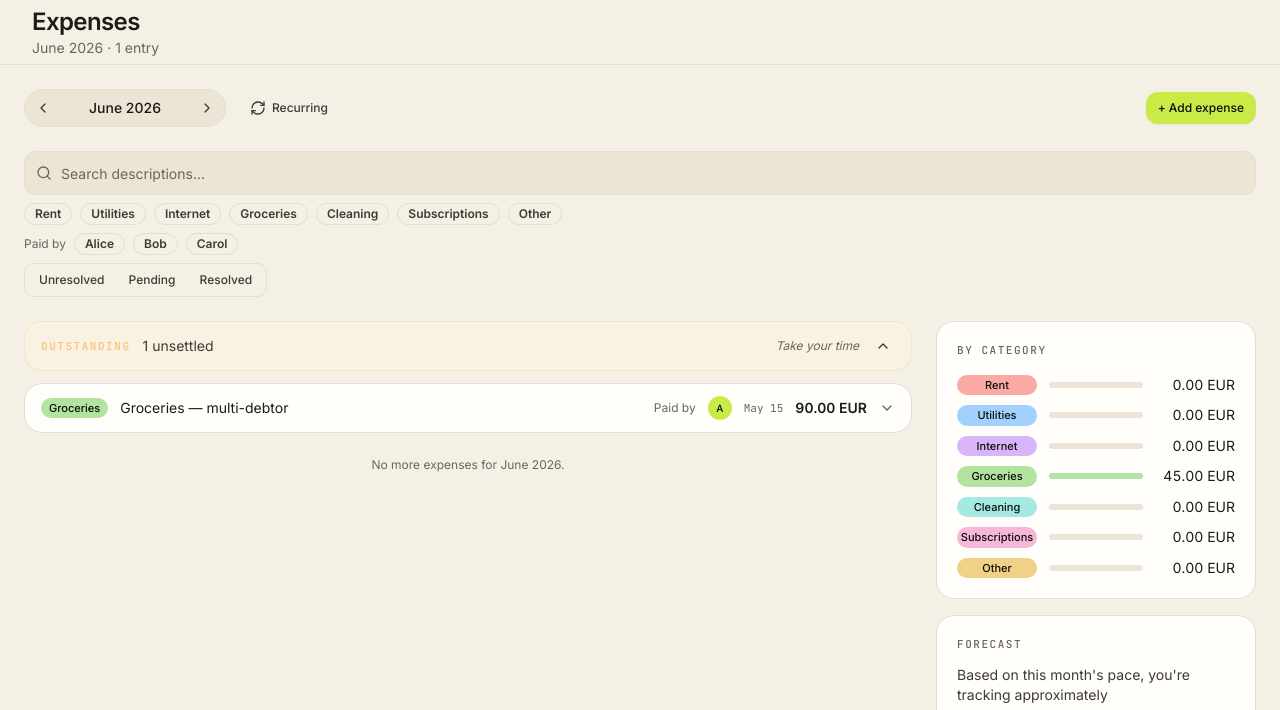
Scenario: <ExpensesPage /> roommates-split multi-debtor › renders per-debtor sub-rows; Bob sees only his own "I paid you back" button
Click the text "Groceries — multi-debtor".
click(204, 408)  # box [120, 399, 288, 416]
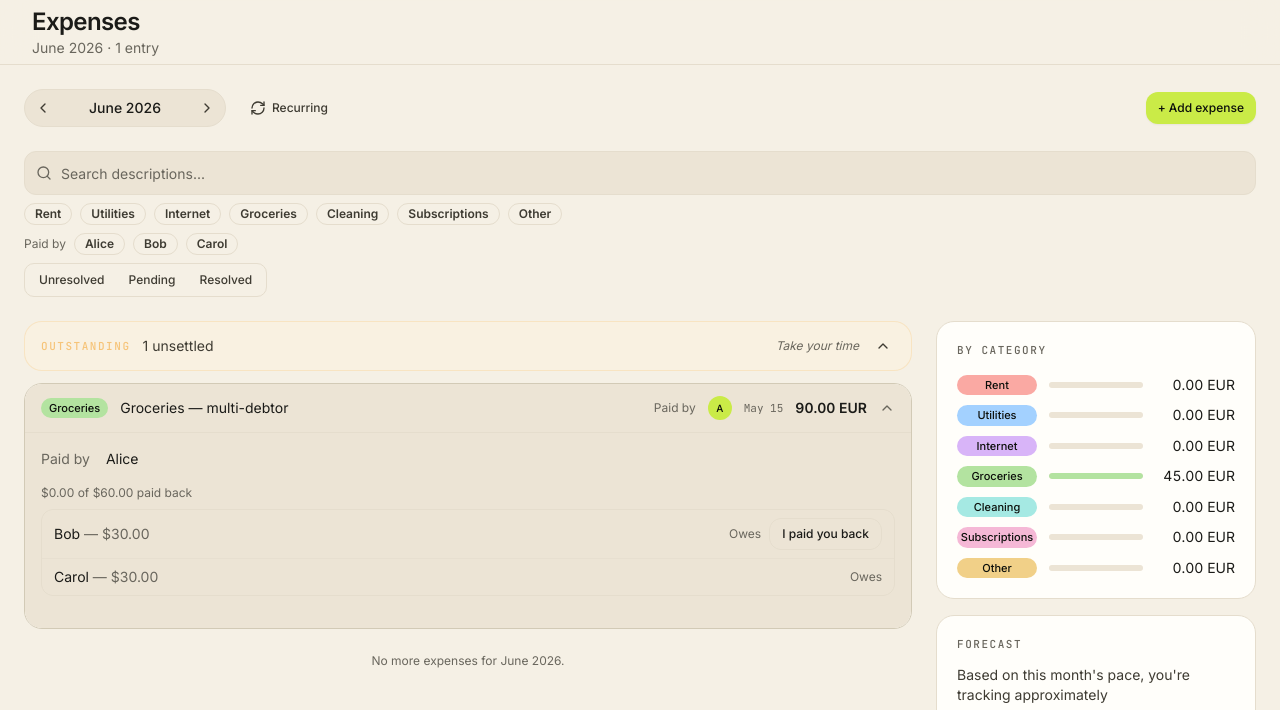
Now the text "Owes" is shown 2 times, box [729, 526, 761, 542]; [850, 569, 882, 585]
Now the text "$0.00 of $60.00 paid back" is shown, box [41, 485, 192, 500]
Now the number of buttons "I paid you back" is 1, box [769, 518, 882, 550]
